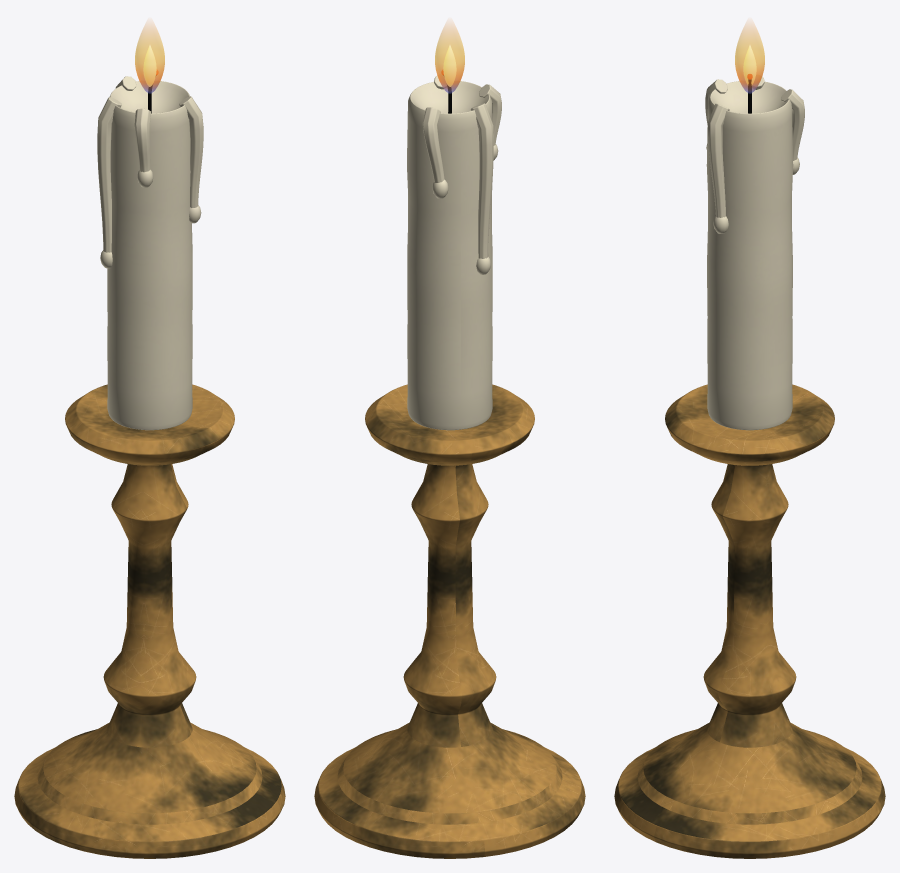
The model's file is Candlestick_Lit.gltf.
3 renders of one model, left to right at view 1: azimuth 30°, elevation 25°; view 2: azimuth 150°, elevation 25°; view 3: azimuth 270°, elevation 25°, orthographic.
Parts seen in each view (by area): view 1: Candlestick_Lit_Body, Candlestick_Lit_Flame; view 2: Candlestick_Lit_Body, Candlestick_Lit_Flame; view 3: Candlestick_Lit_Body, Candlestick_Lit_Flame.
Part boxes in pixels (<box>): Candlestick_Lit_Body: <box>14,70,285,858</box>; Candlestick_Lit_Flame: <box>135,22,164,93</box>; Candlestick_Lit_Body: <box>314,70,585,858</box>; Candlestick_Lit_Flame: <box>435,22,464,93</box>; Candlestick_Lit_Body: <box>614,74,885,858</box>; Candlestick_Lit_Flame: <box>735,22,764,93</box>.
Size of the model in its own units: 0.1398 by 0.449 by 0.1398.
6 materials, 3 textured.
